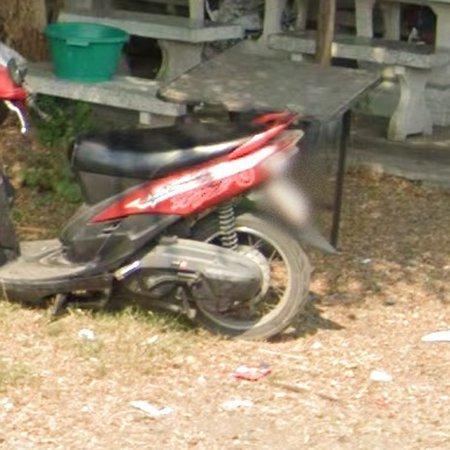motorcycles: (0, 112, 331, 339)
